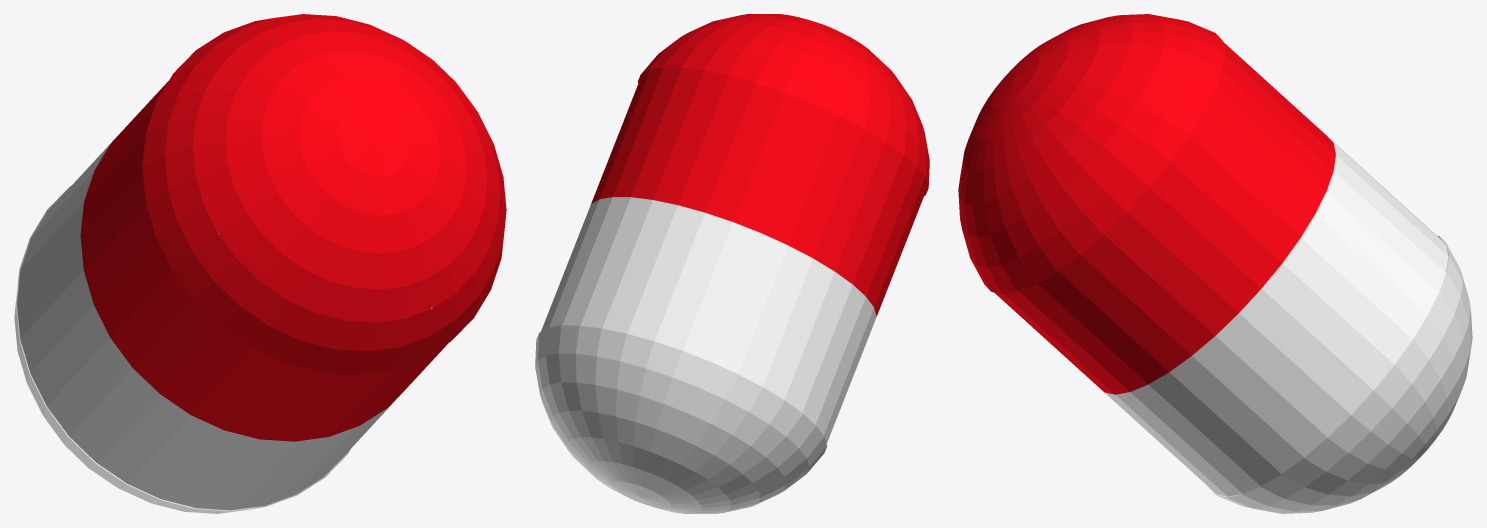
The model's file is HealthPill.gltf.
The picture shows the model from 3 angles, left to right: view 1: azimuth 30°, elevation 25°; view 2: azimuth 150°, elevation 25°; view 3: azimuth 270°, elevation 25°; orthographic projection. The views are drawn at different scales.
Parts seen in each view (by area): view 1: Cylinder; view 2: Cylinder; view 3: Cylinder.
Boxes of the visible parts, x1,y1,x2,y2 form: Cylinder: (14,14,506,513); Cylinder: (535,14,929,513); Cylinder: (958,14,1472,513).
Bounding box in the file's own units: 2.16 × 3.23 × 3.23.
Materials: 1 (1 with a texture image).
